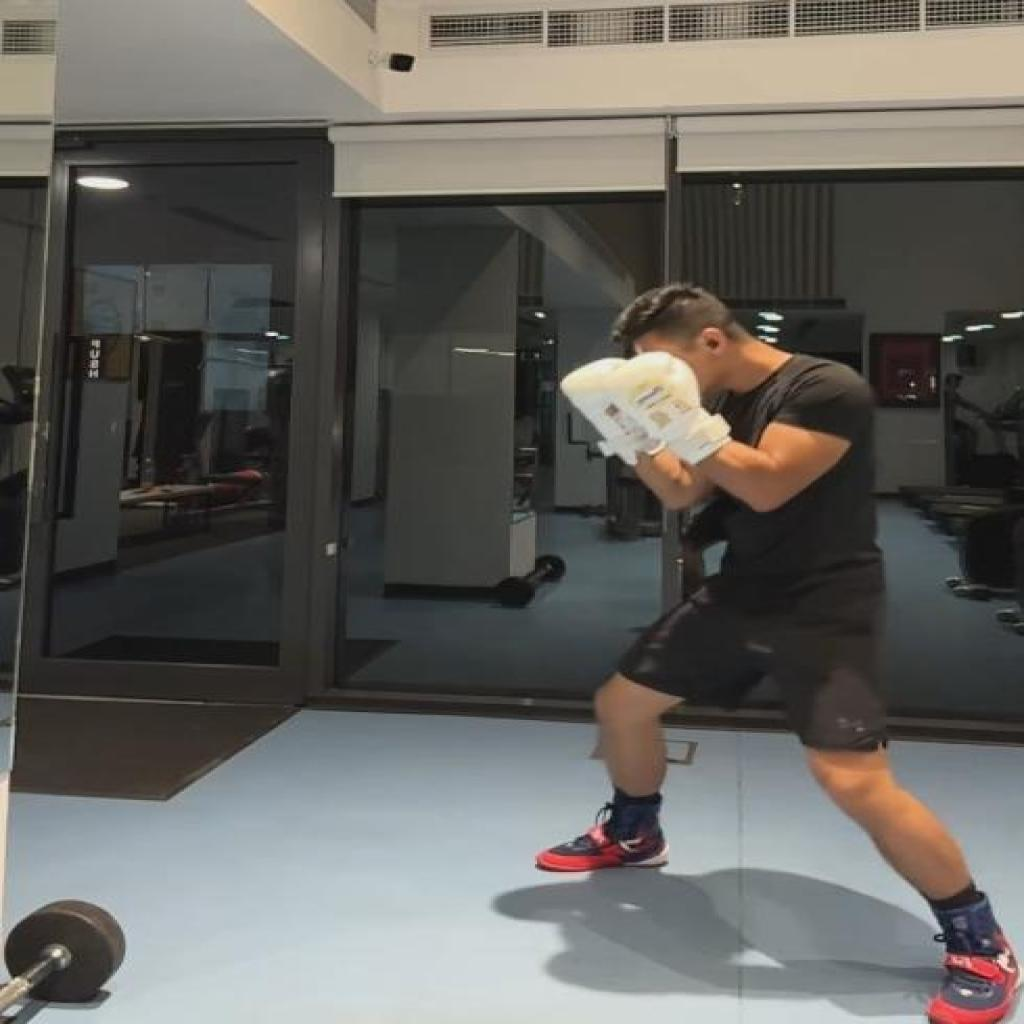no punch: (533, 278, 1024, 1024)
